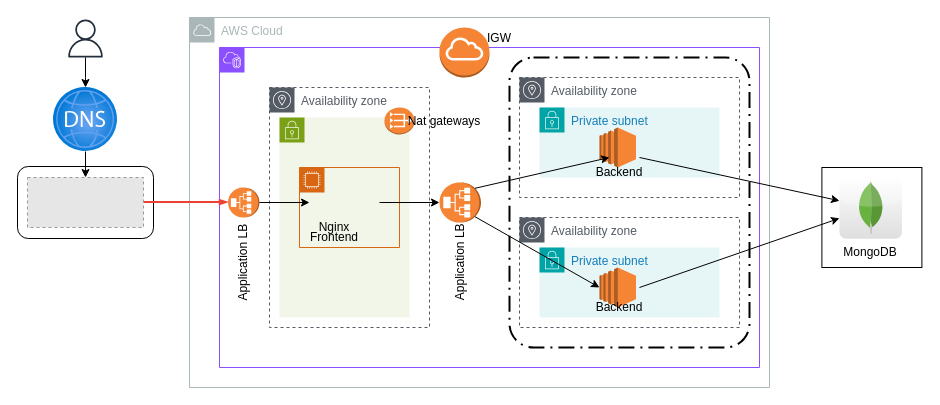
The diagram is 940 pixels wide and 405 high, and some of its shapes have lost their labels. Grey dashed boxes stand in for pictures. Here are the shapes that lost their labels. From the top down, the box of each, then its label:
(278, 116, 410, 318): Public subnet
(298, 166, 400, 248): EC2 instance contents
(218, 46, 760, 368): VPC
